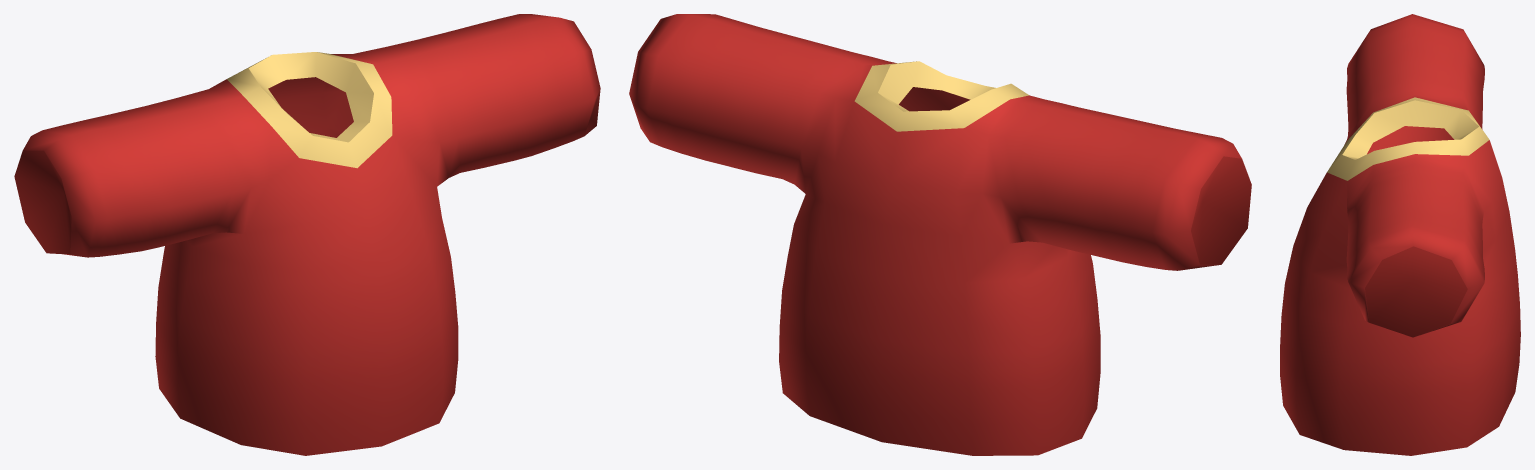
The model's file is Top_9.fbx.
3 renders of one model, left to right at view 1: azimuth 30°, elevation 25°; view 2: azimuth 150°, elevation 25°; view 3: azimuth 270°, elevation 25°, orthographic. The views are drawn at different scales.
Visible parts, largest first — view 1: Top_9; view 2: Top_9; view 3: Top_9.
Part boxes in pixels (x1,y1,x2,y2): Top_9: (14, 14, 600, 455); Top_9: (629, 14, 1251, 455); Top_9: (1280, 14, 1520, 455).
Size of the model in its own units: 83.07 by 47.57 by 36.49.
